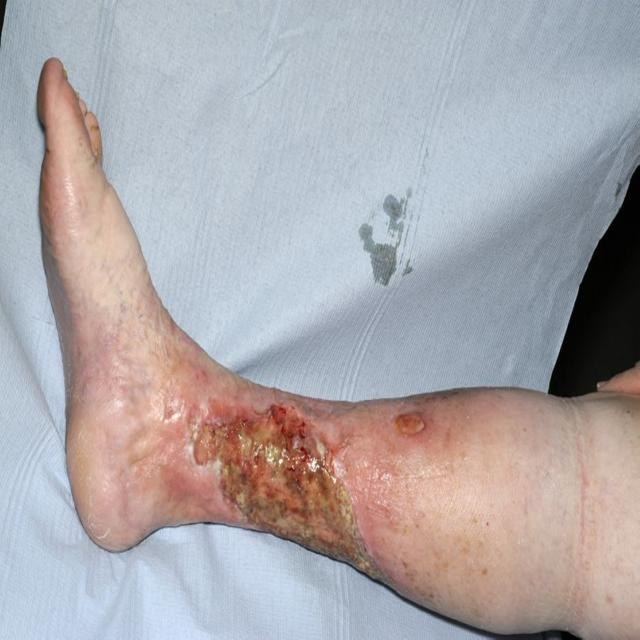wound: (192, 400, 392, 588)
